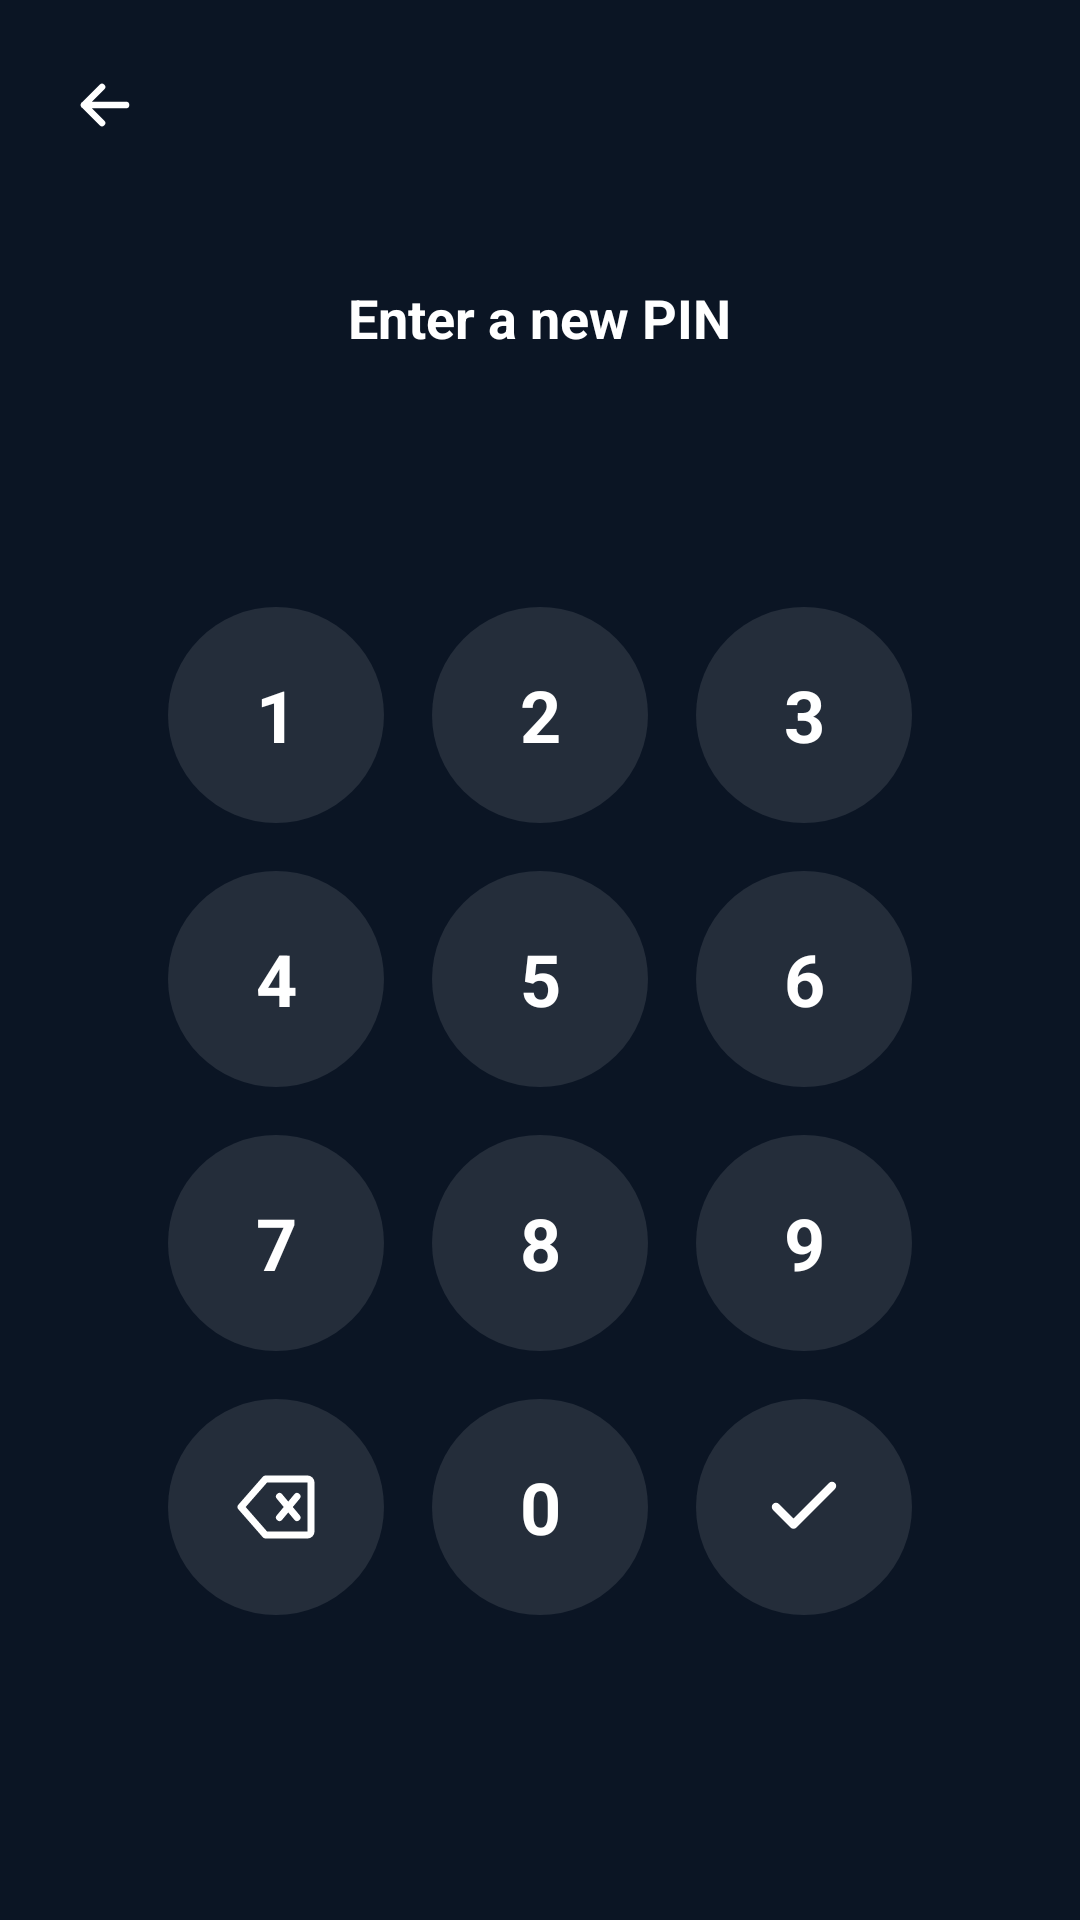

Screen size 1080 x 1920. Icon name, then its center in pixels as point (x, y):
back: point (105, 105)
backspace: point (276, 1507)
check: point (804, 1507)
